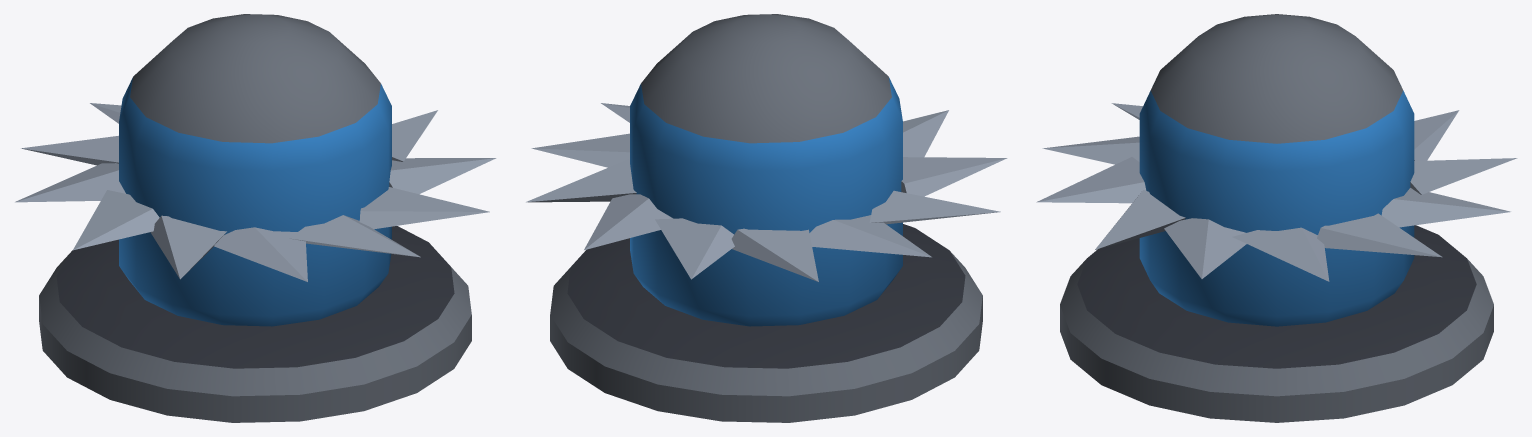
3 views of the same model, side by side, from view 1: azimuth 30°, elevation 25°; view 2: azimuth 150°, elevation 25°; view 3: azimuth 270°, elevation 25° (orthographic).
Visible parts, largest first — view 1: tachinha_1_torreta, tachinha_0_base; view 2: tachinha_1_torreta, tachinha_0_base; view 3: tachinha_1_torreta, tachinha_0_base.
Part boxes in pixels (left/top/right/bottom): tachinha_1_torreta: left=15, top=14, right=496, bottom=326; tachinha_0_base: left=39, top=226, right=471, bottom=422; tachinha_1_torreta: left=526, top=14, right=1007, bottom=326; tachinha_0_base: left=550, top=224, right=982, bottom=422; tachinha_1_torreta: left=1036, top=14, right=1517, bottom=326; tachinha_0_base: left=1060, top=225, right=1493, bottom=422.
Size of the model in its own units: 0.7548 by 0.53 by 0.7548.
